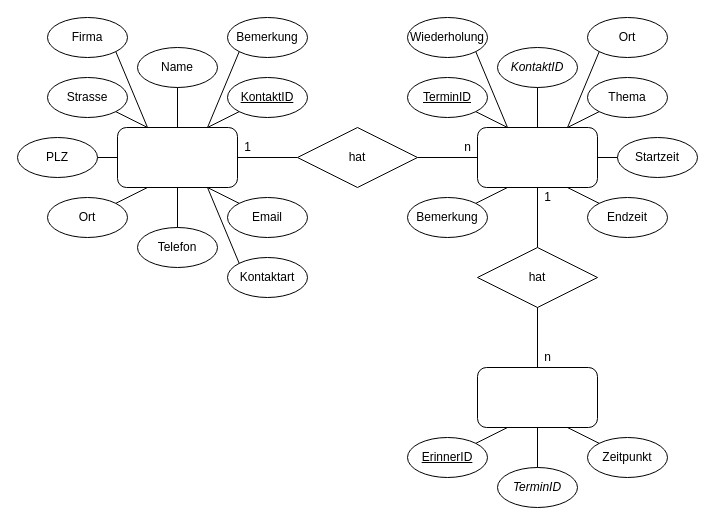
This 715x525 diagram has some shape labels left out. Each missing label, with the box of its shape:
Erinnerung: (476, 366, 598, 428)
Kontakt: (116, 126, 238, 188)
Termin: (476, 126, 598, 188)
